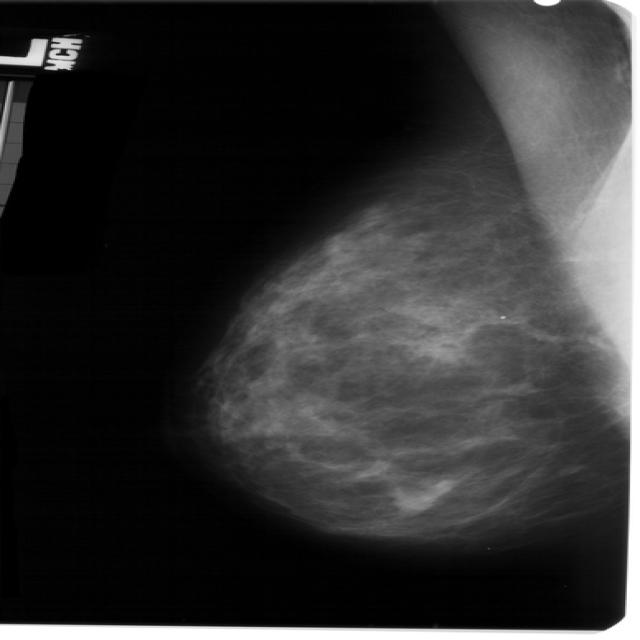tumour: (388, 484, 437, 510)
